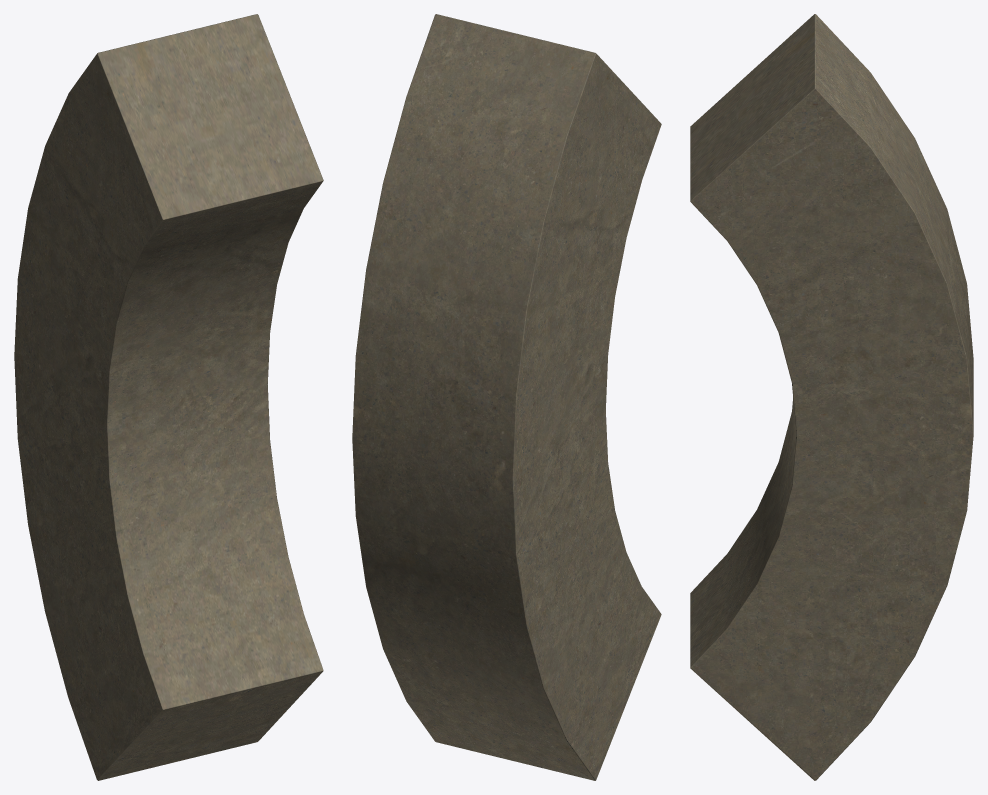
The model's file is cP_Bench15_Curve.dae.
3 renders of one model, left to right at view 1: azimuth 30°, elevation 25°; view 2: azimuth 150°, elevation 25°; view 3: azimuth 270°, elevation 25°, orthographic. The views are drawn at different scales.
Visible parts, largest first — view 1: cP_Bench15_Curve.001; view 2: cP_Bench15_Curve.001; view 3: cP_Bench15_Curve.001.
Part boxes in pixels (<box>): cP_Bench15_Curve.001: <box>14,14,323,780</box>; cP_Bench15_Curve.001: <box>352,14,661,780</box>; cP_Bench15_Curve.001: <box>690,14,973,780</box>.
Size of the model in its own units: 0.5 by 0.7992 by 2.15.
